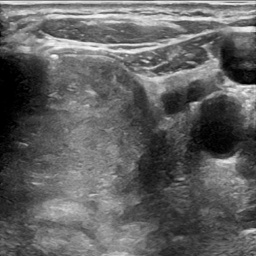mass: (15, 55, 177, 243)
